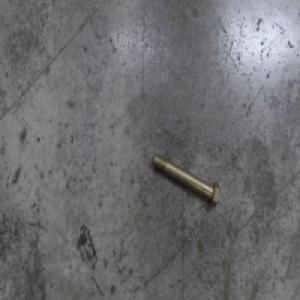Bolt: (151, 150, 220, 209)
